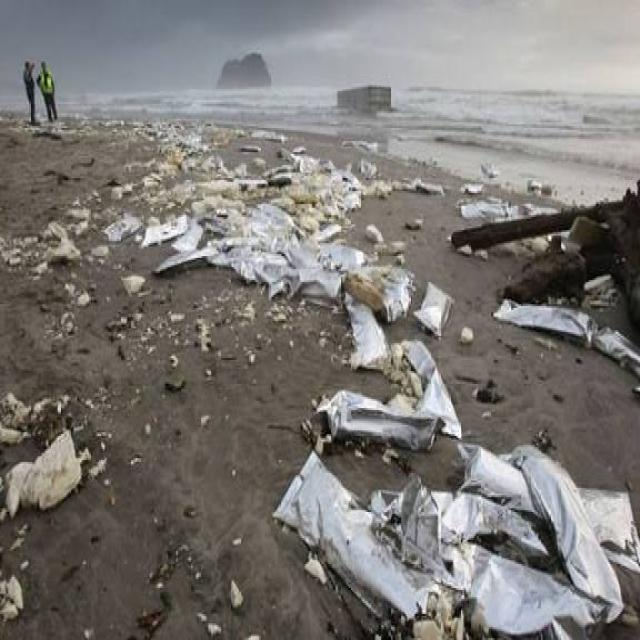paper: (448, 416, 626, 640), (271, 443, 468, 640), (158, 168, 397, 310), (302, 291, 466, 432), (0, 446, 121, 528)
